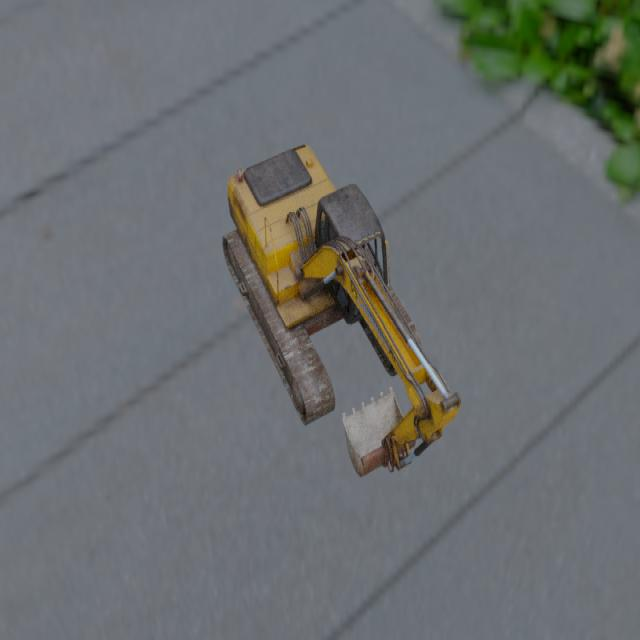excavator: (221, 144, 460, 477)
